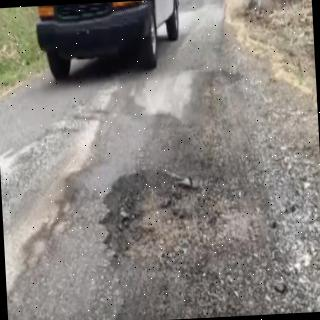pothole: (102, 169, 206, 271)
